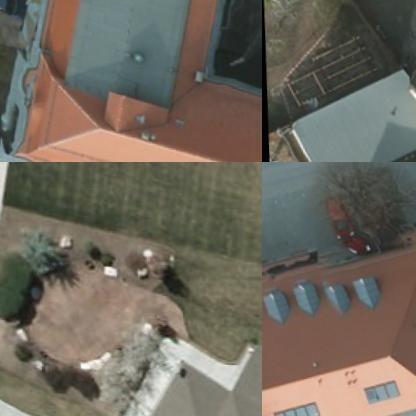car: (321, 190, 358, 239)
